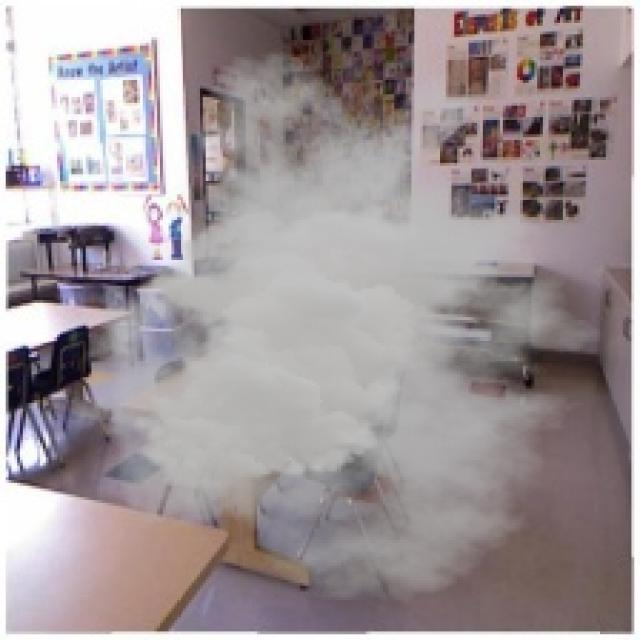smoke: (69, 48, 628, 603)
